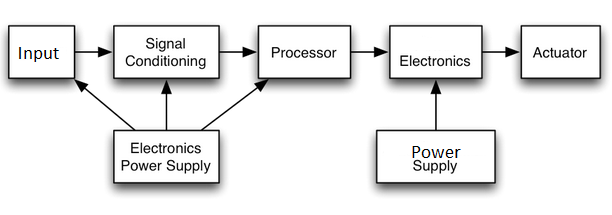arrow: (199, 79, 277, 129), (72, 76, 135, 129), (75, 45, 115, 60), (430, 79, 442, 129), (160, 78, 172, 128), (483, 46, 521, 59), (352, 46, 391, 58), (218, 46, 256, 58)
process: (374, 128, 497, 184), (112, 23, 222, 82), (111, 128, 221, 185), (255, 23, 353, 82), (388, 23, 485, 81), (519, 23, 603, 80), (6, 24, 78, 78)
text: (124, 34, 207, 71), (119, 140, 211, 173), (410, 144, 461, 175), (397, 54, 471, 69), (269, 45, 337, 59), (530, 45, 588, 59), (16, 46, 60, 62)
